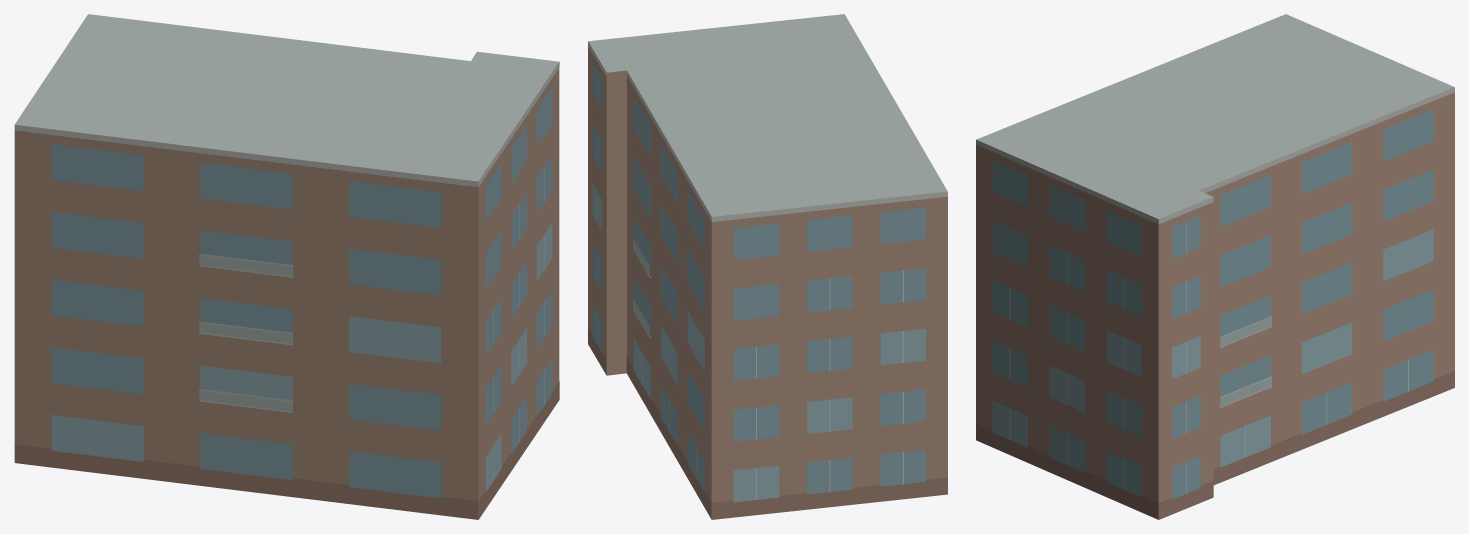
File: survey-upis-32742903.glb
3 renders of one model, left to right at view 1: azimuth 30°, elevation 25°; view 2: azimuth 150°, elevation 25°; view 3: azimuth 270°, elevation 25°, orthographic. The views are drawn at different scales.
Visible parts, largest first — view 1: survey-upis-32742903.tmp; view 2: survey-upis-32742903.tmp; view 3: survey-upis-32742903.tmp.
Part boxes in pixels (x1=…): survey-upis-32742903.tmp: x1=14, y1=14, x2=559, y2=519; survey-upis-32742903.tmp: x1=588, y1=14, x2=947, y2=519; survey-upis-32742903.tmp: x1=976, y1=14, x2=1454, y2=519.
Size of the model in its own units: 21.09 by 14.4 by 20.79.
